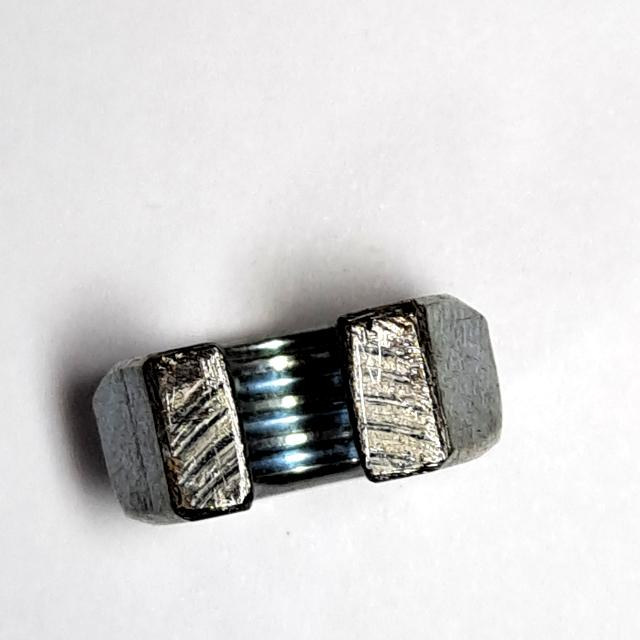Side-Fracture: (77, 277, 521, 542)
